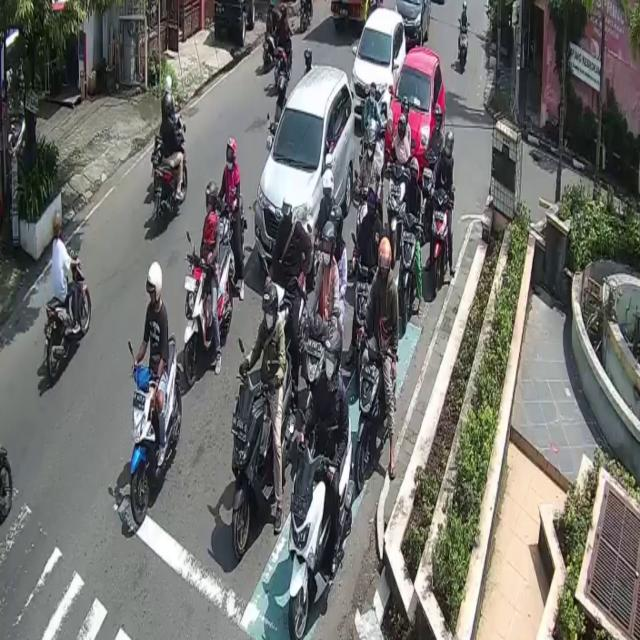bus: (289, 411, 354, 640), (233, 360, 295, 559), (130, 332, 182, 527), (181, 240, 231, 385), (45, 250, 91, 388), (359, 343, 399, 489), (397, 212, 418, 333), (153, 161, 187, 227), (430, 191, 450, 300), (458, 23, 470, 78)
motorcycle: (255, 63, 356, 273), (386, 46, 446, 180), (358, 1, 412, 118), (399, 0, 430, 52)
